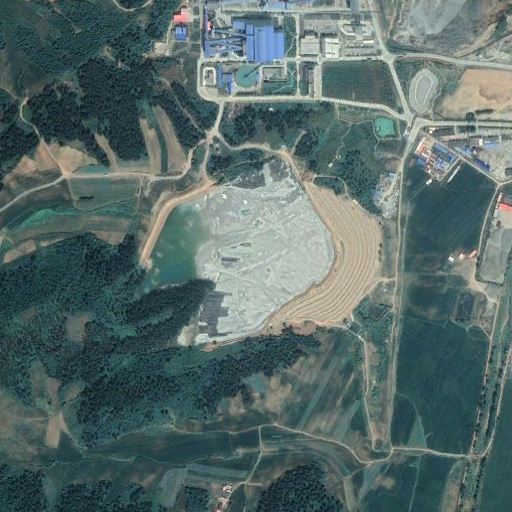tp: (128, 158, 378, 348)
